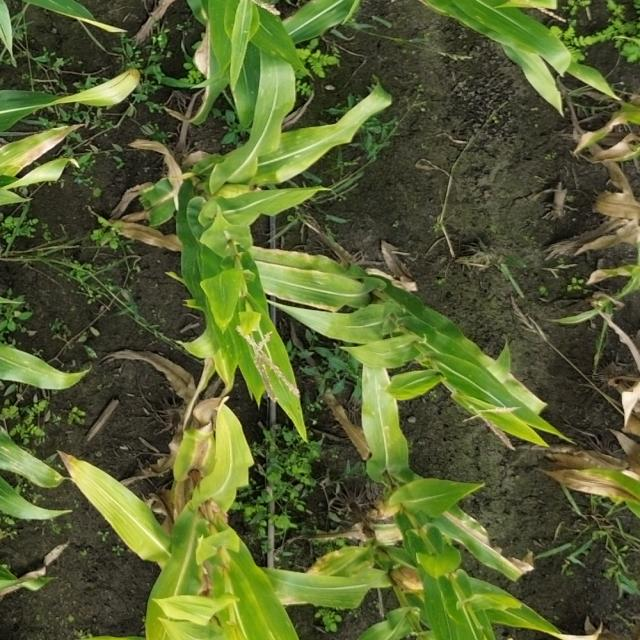gray-leaf-spot: (222, 286, 317, 408), (0, 108, 87, 214)
northern-leaf-blight: (537, 444, 640, 523), (442, 502, 533, 581), (158, 427, 233, 488)
southern-leaf-blight: (248, 78, 349, 184), (355, 376, 416, 463)
